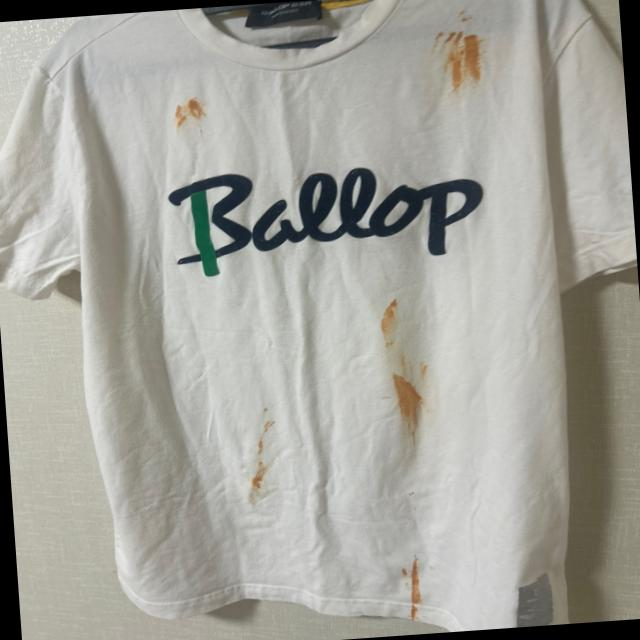stain: (422, 26, 490, 91), (388, 353, 438, 438), (246, 403, 284, 494), (400, 552, 430, 624), (166, 95, 219, 134), (379, 296, 415, 350), (451, 2, 480, 24), (404, 488, 426, 502)
